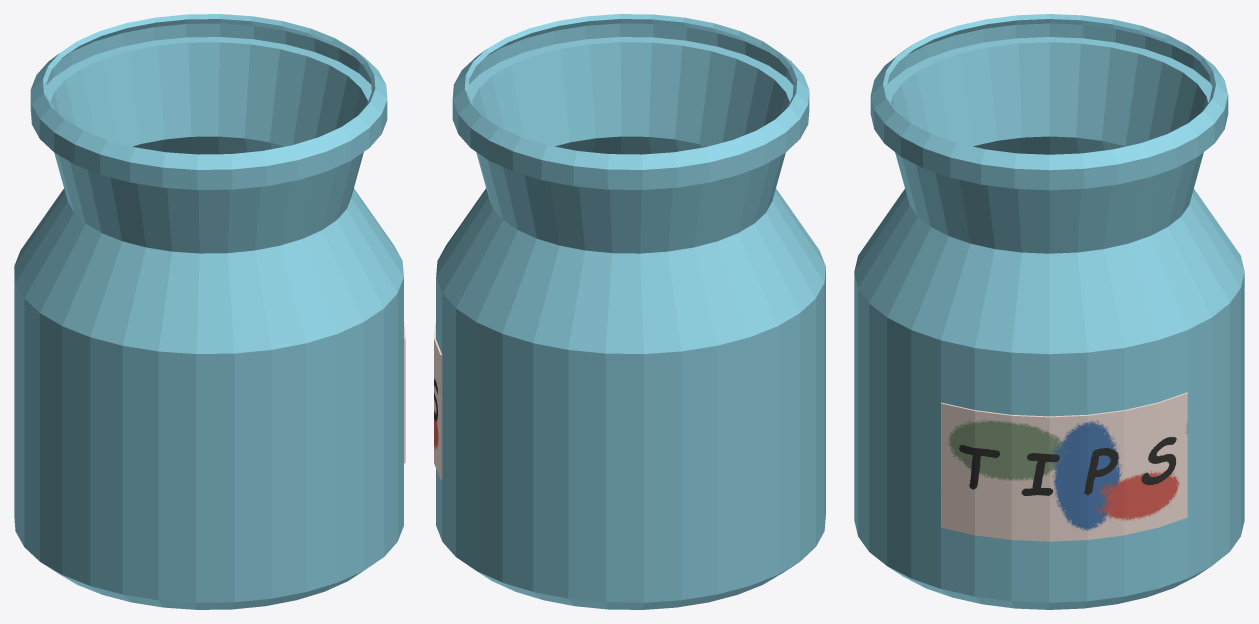
File: tipjar.fbx
3 renders of one model, left to right at view 1: azimuth 30°, elevation 25°; view 2: azimuth 150°, elevation 25°; view 3: azimuth 270°, elevation 25°, orthographic.
Visible parts, largest first — view 1: Circle; view 2: Circle; view 3: Circle.
Part boxes in pixels (<box>): Circle: <box>14,14,405,609</box>; Circle: <box>434,14,825,609</box>; Circle: <box>854,14,1244,609</box>.
Bounding box in the file's own units: 224 × 285 × 223.
